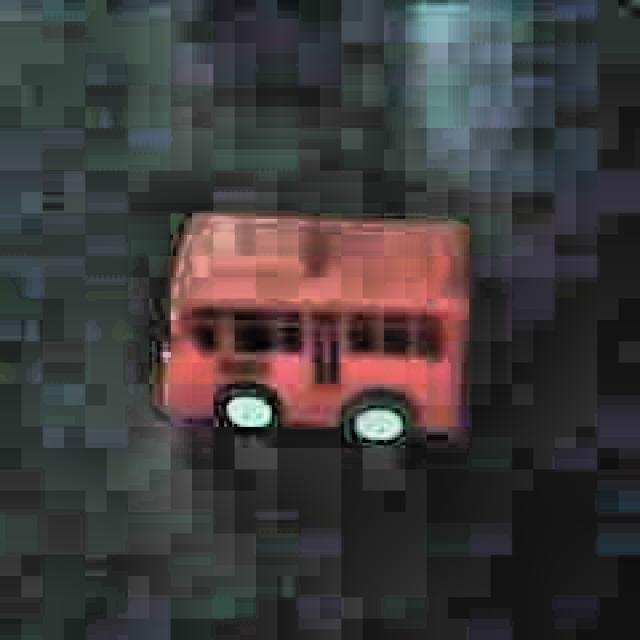bus: (151, 201, 475, 454)
